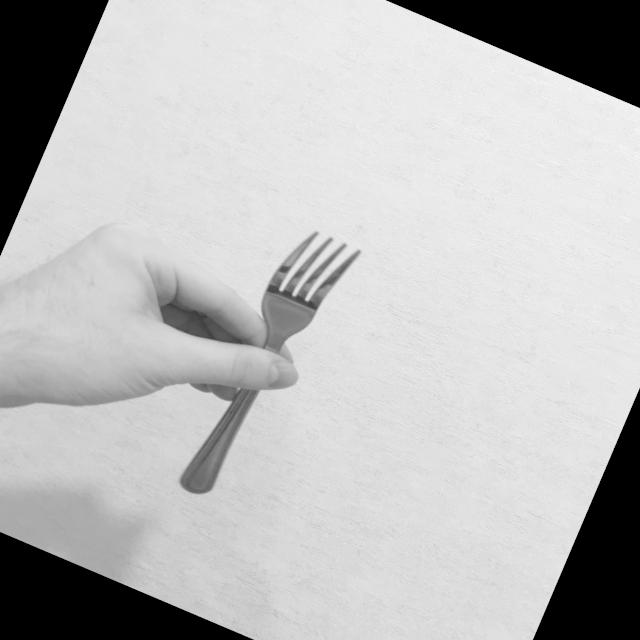fork: (173, 216, 364, 520)
